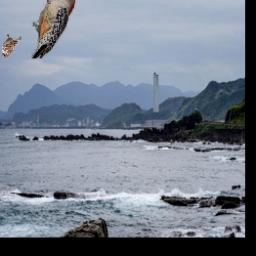Sparrow: (2, 35, 22, 58)
Woodpecker: (32, 0, 76, 59)
